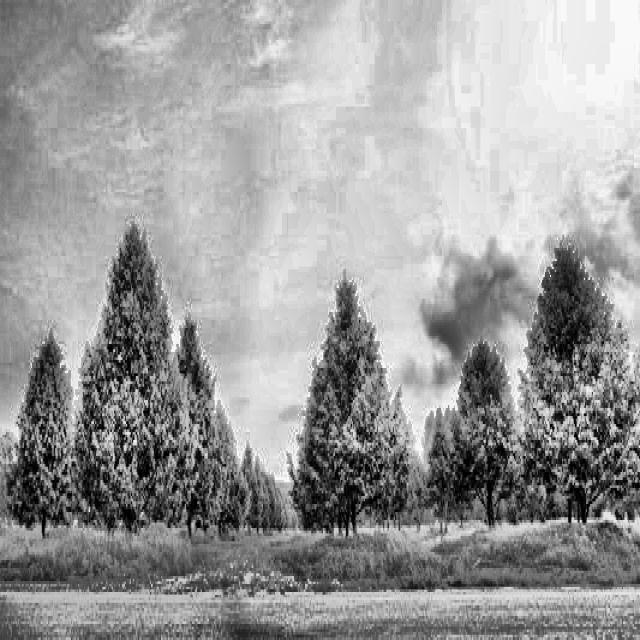arvore: (564, 451, 597, 551), (118, 483, 143, 568), (479, 453, 501, 546), (33, 473, 55, 556), (183, 486, 199, 557), (340, 487, 356, 551)
